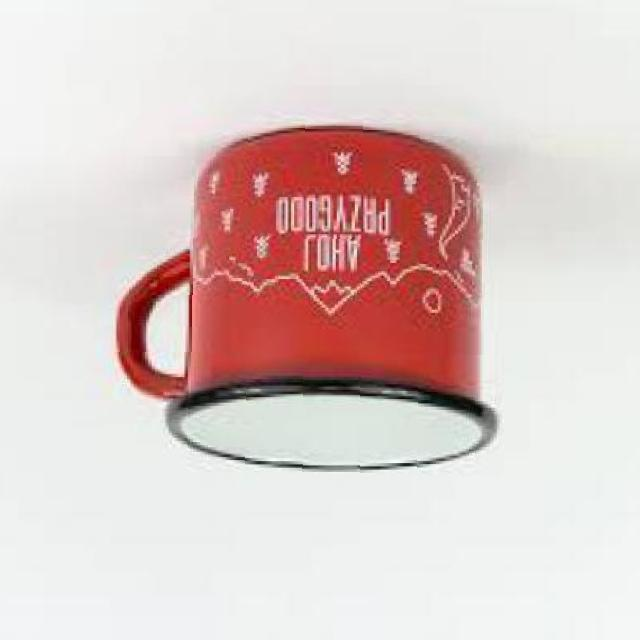cup: (100, 106, 507, 486)
